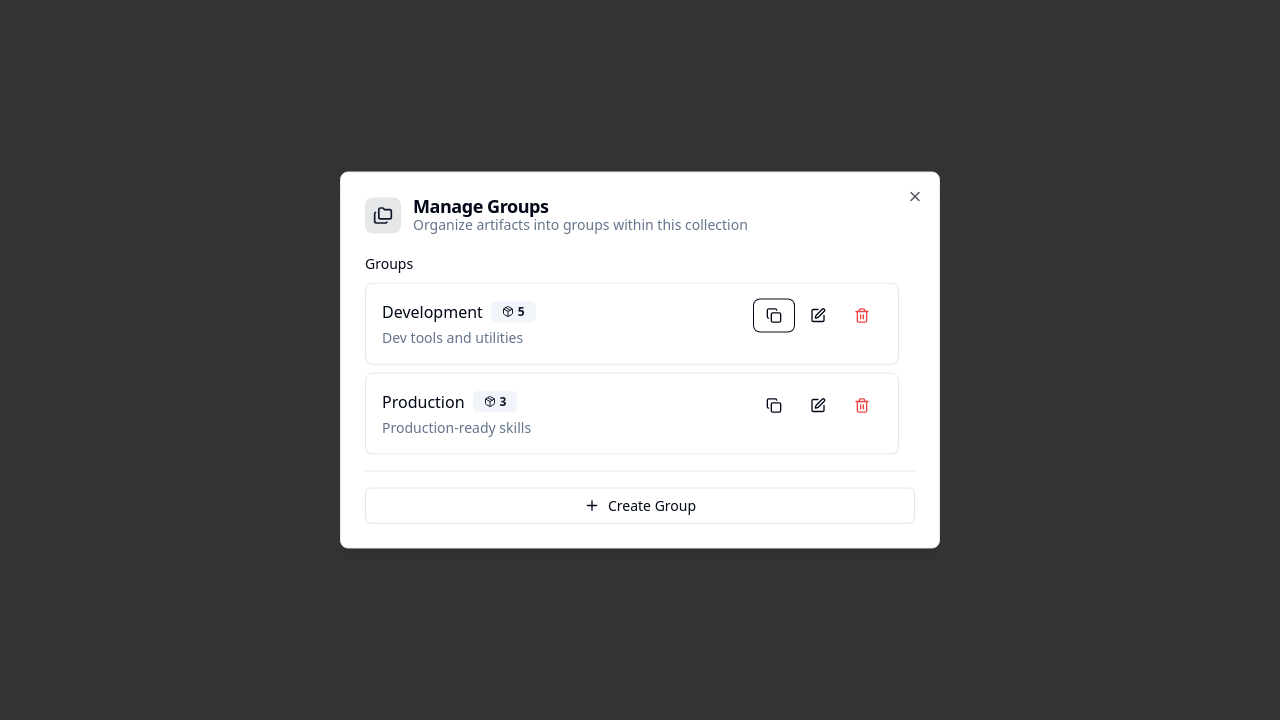
Test: ManageGroupsDialog › Copy Group › opens copy dialog when copy button is clicked
The width and height of the screenshot is (1280, 720).
Click the button named "Copy group \"Development\" to another collection" at coordinates (774, 316), box [754,300,794,332]
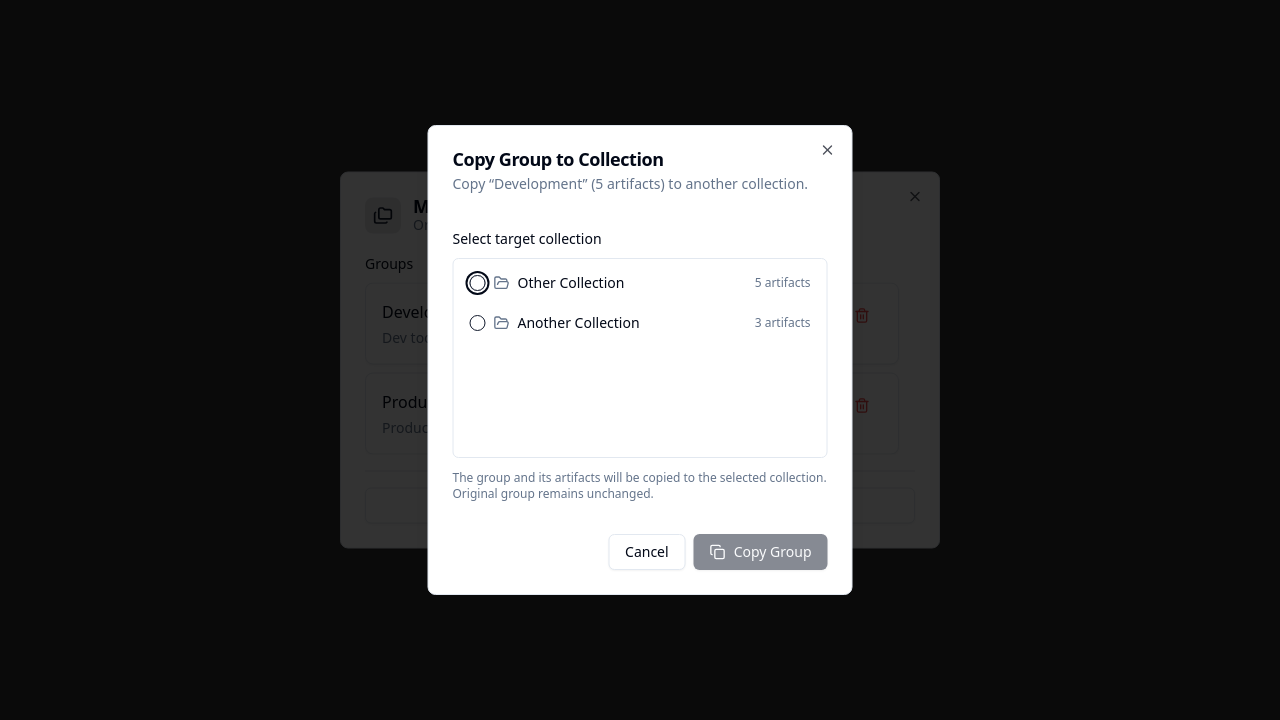
Now the heading "Copy Group to Collection" is shown, box [452,147,664,171]
